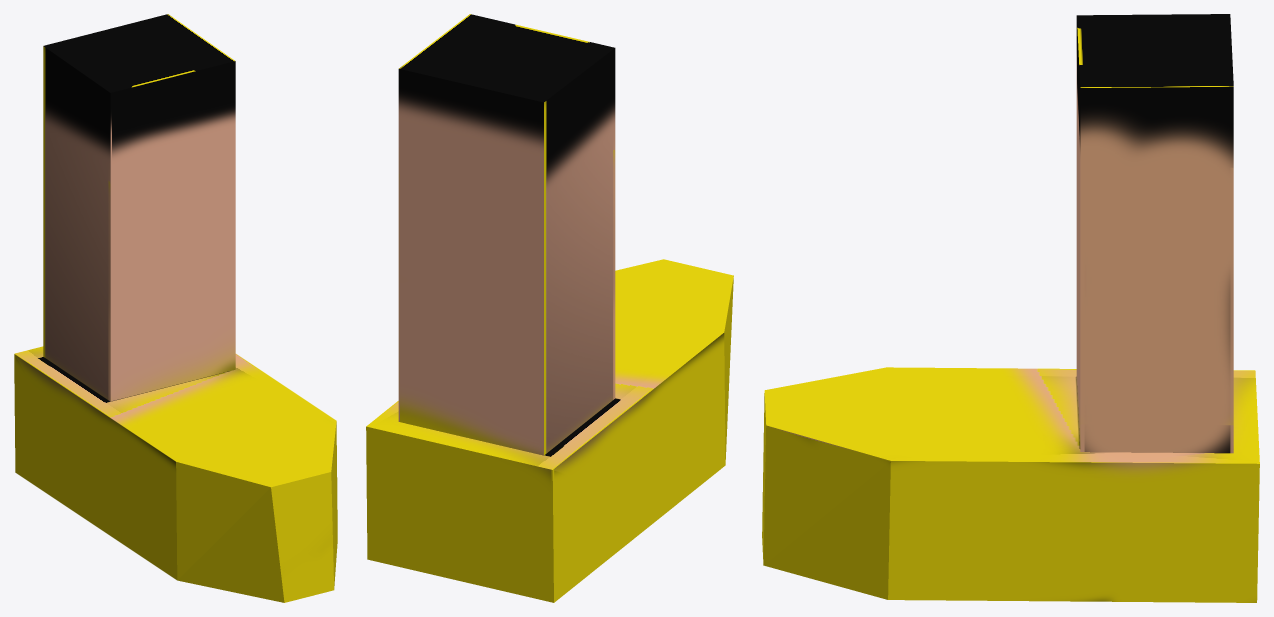
The model's file is HurmanL_feed2.obj.
3 views of the same model, side by side, from view 1: azimuth 30°, elevation 25°; view 2: azimuth 150°, elevation 25°; view 3: azimuth 270°, elevation 25° (orthographic). The views are drawn at different scales.
Parts seen in each view (by area): view 1: 立方体.006_立方体.009; view 2: 立方体.006_立方体.009; view 3: 立方体.006_立方体.009.
Part boxes in pixels (box(x1,y1,x2,y2)): 立方体.006_立方体.009: box(14, 14, 337, 602); 立方体.006_立方体.009: box(366, 14, 733, 602); 立方体.006_立方体.009: box(762, 14, 1259, 602).
Size of the model in its own units: 0.9288 by 2.27 by 2.02.
Materials: 1 (1 with a texture image).
